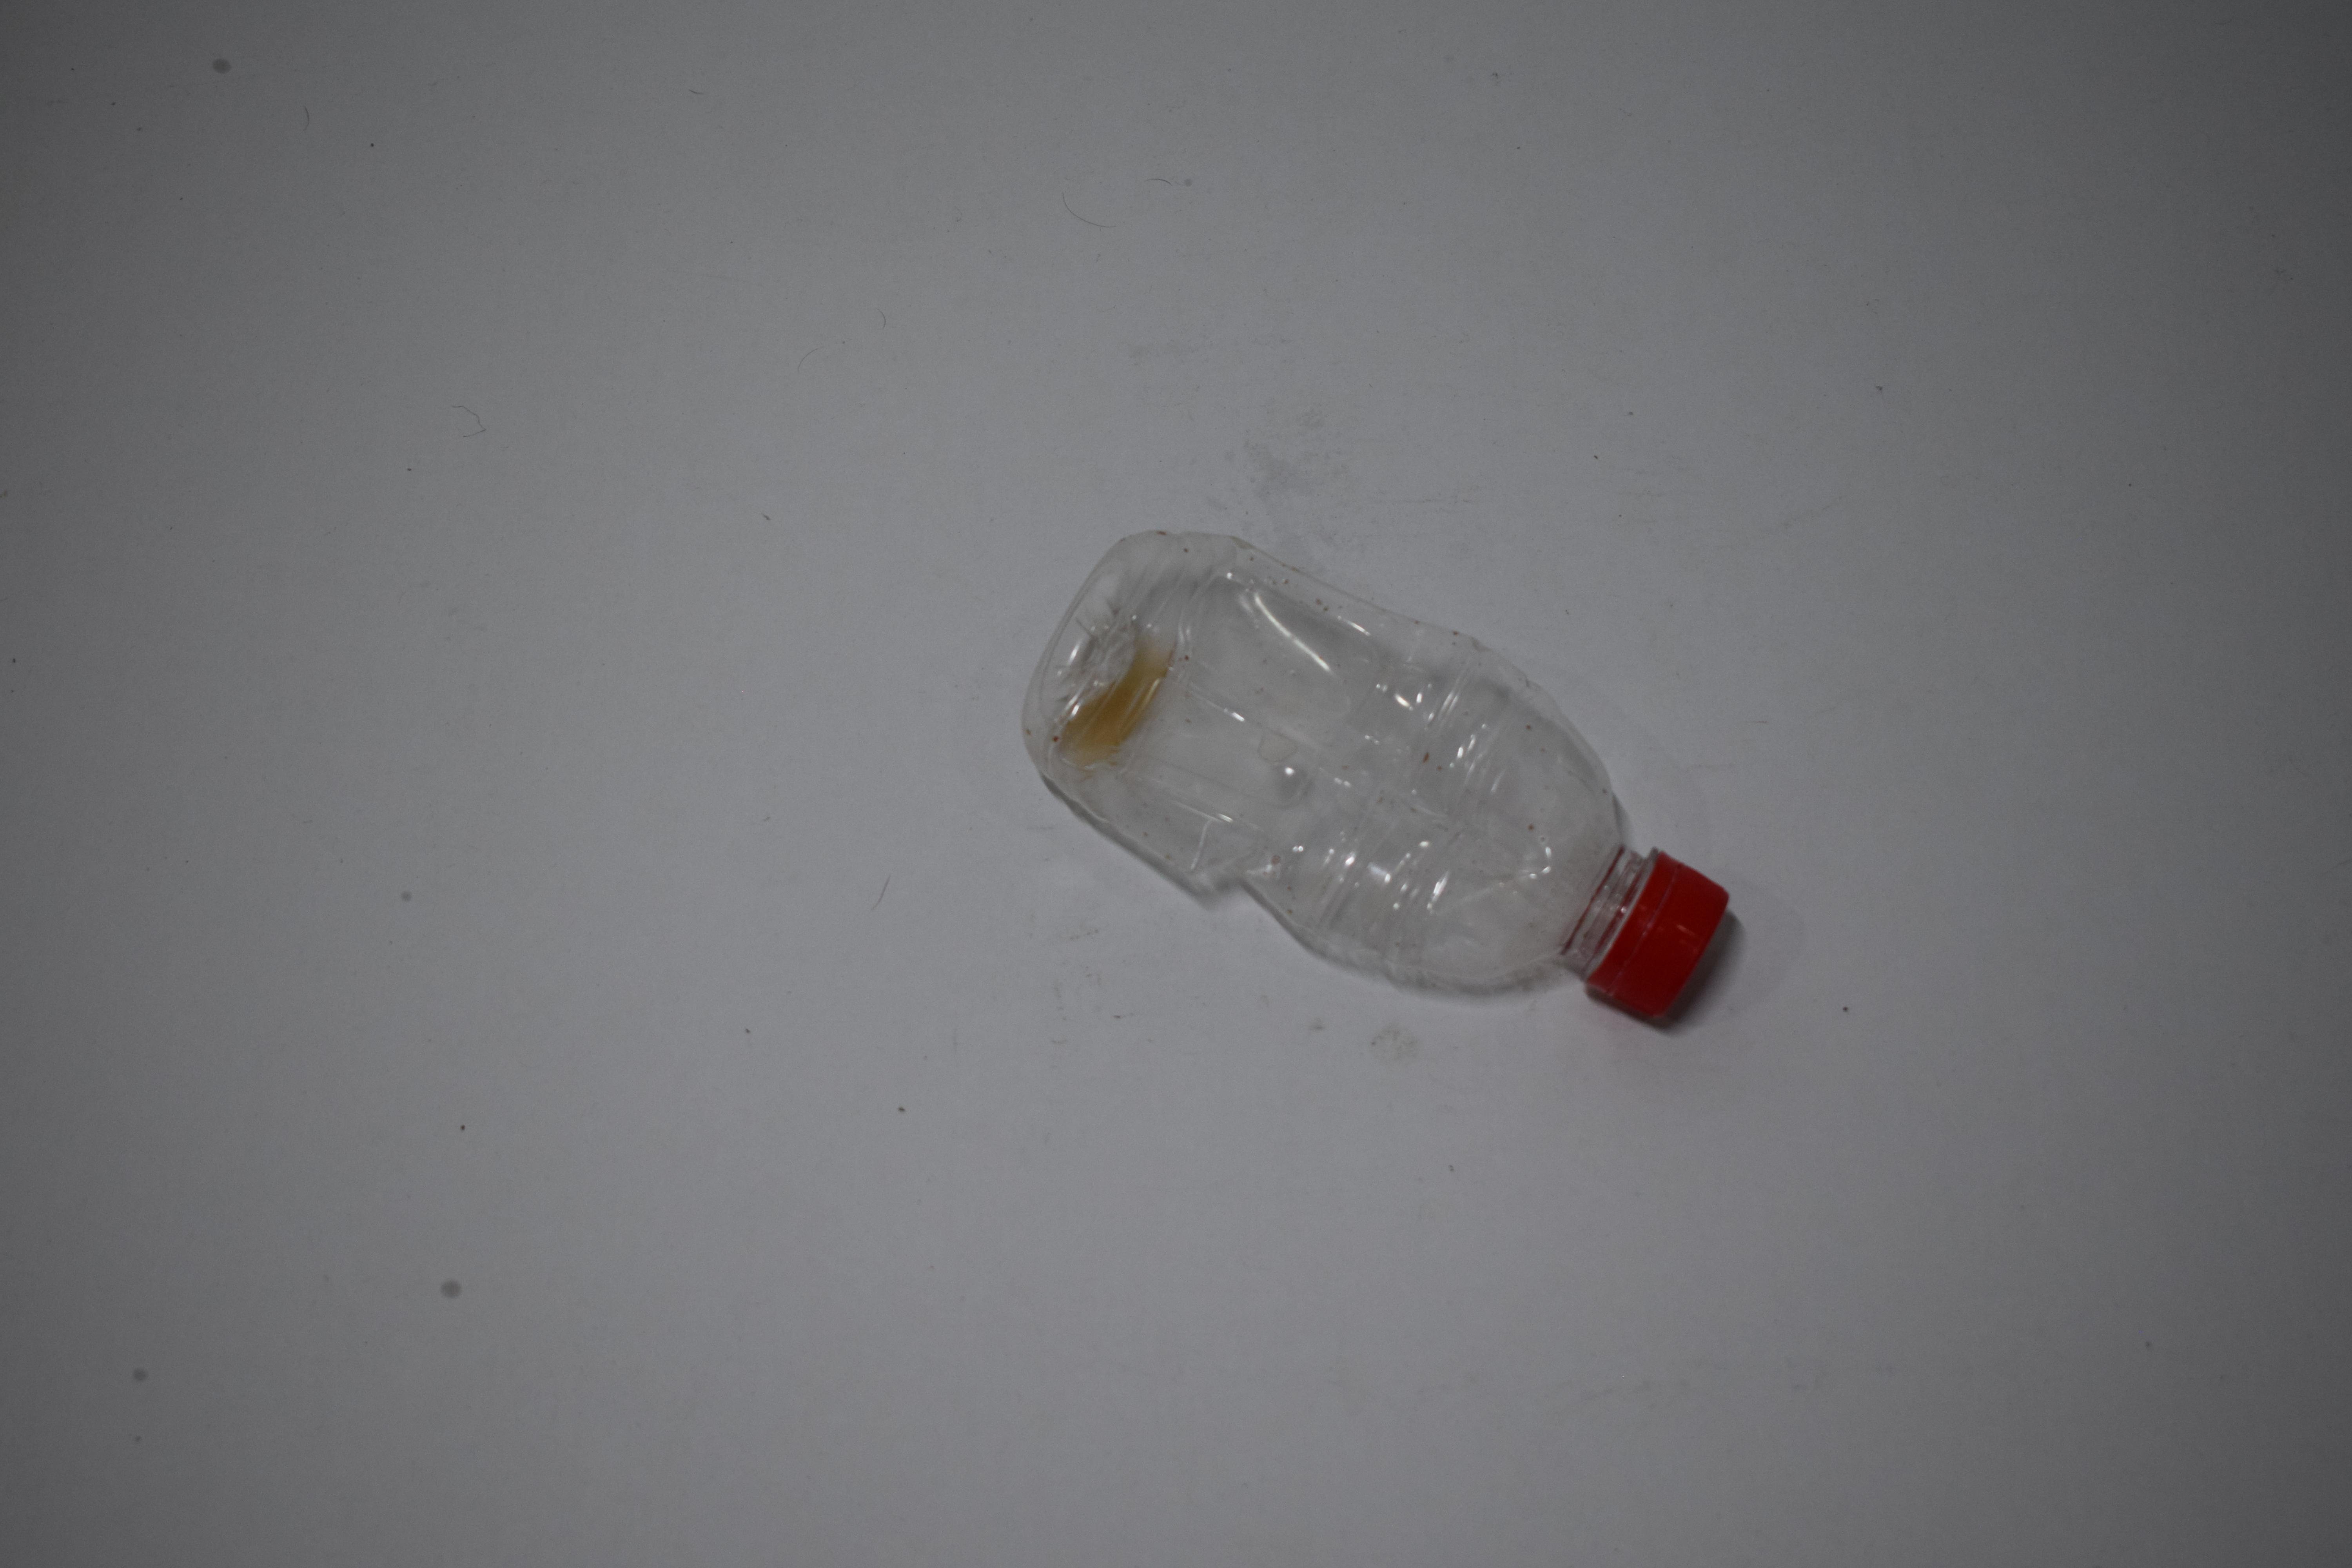bottle: (0, 520, 553, 1038)
